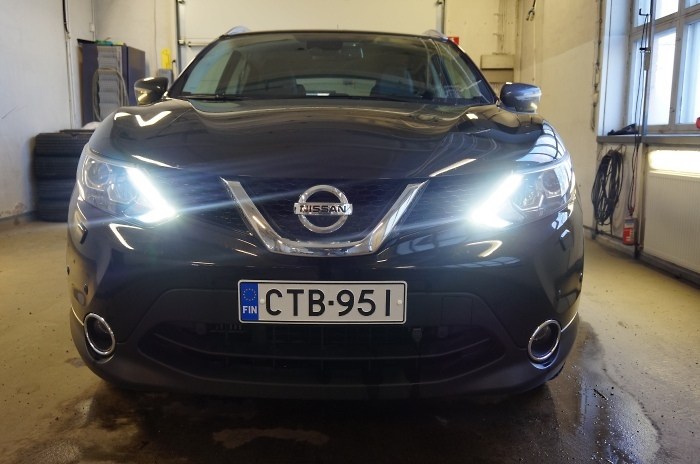license: (235, 279, 407, 327)
